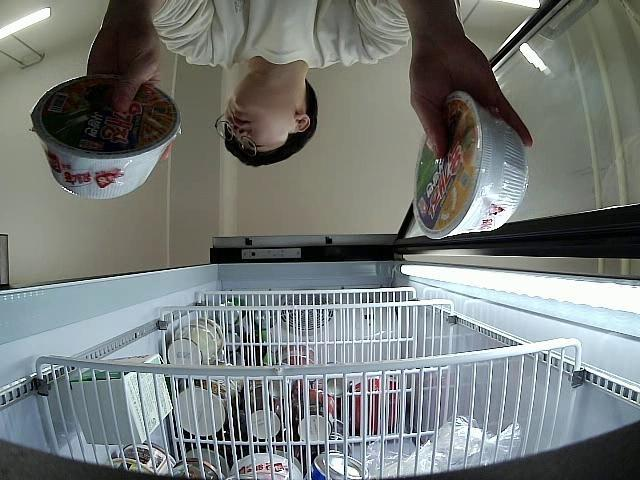09_yukGaeJang: (29, 76, 182, 198), (411, 90, 530, 240)
